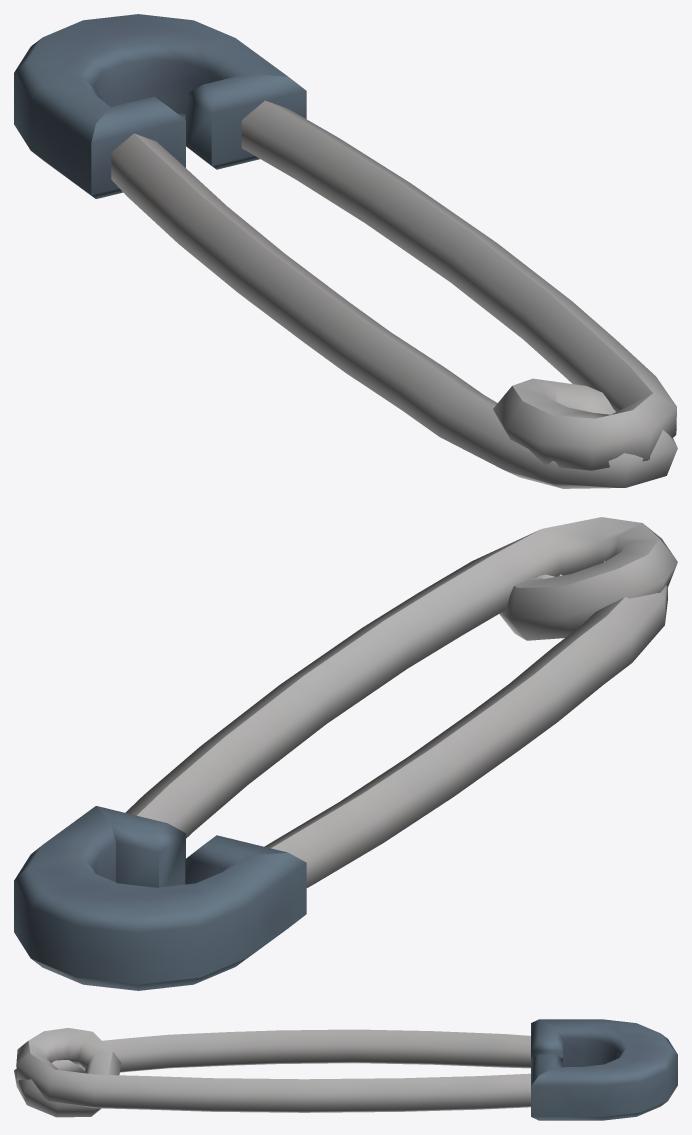
File: SM_Farm_SafetyPin_01.fbx
3 views of the same model, one above another, from view 1: azimuth 30°, elevation 25°; view 2: azimuth 150°, elevation 25°; view 3: azimuth 270°, elevation 25° (orthographic). The views are drawn at different scales.
Visible parts, largest first — view 1: SM_Farm_SafetyPin_01_LOD0; view 2: SM_Farm_SafetyPin_01_LOD0; view 3: SM_Farm_SafetyPin_01_LOD0.
Boxes of the visible parts, box(x1,y1,x2,y2) form: SM_Farm_SafetyPin_01_LOD0: box(14, 14, 677, 488); SM_Farm_SafetyPin_01_LOD0: box(14, 517, 677, 990); SM_Farm_SafetyPin_01_LOD0: box(14, 1019, 677, 1120).
Bounding box in the file's own units: 3.35 × 1.37 × 14.87.
